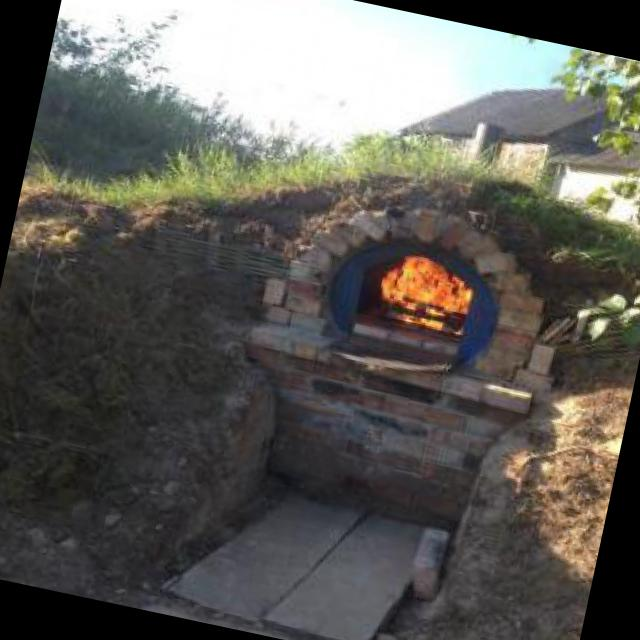fire: (390, 236, 454, 343)
